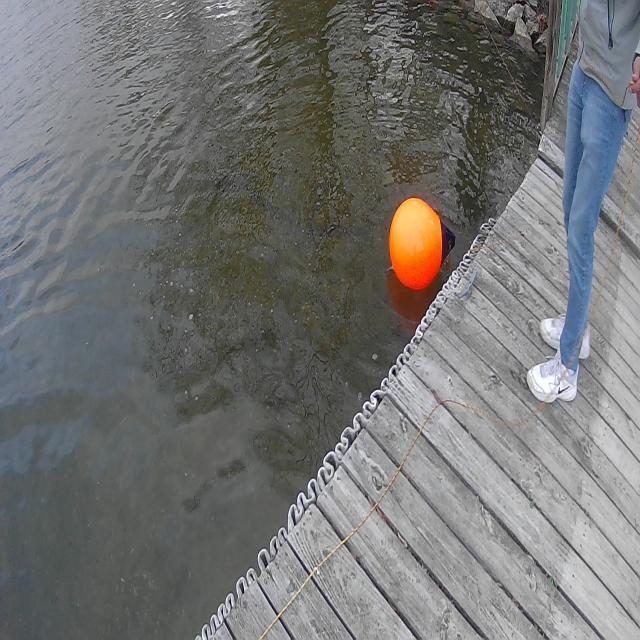Buoy: (384, 187, 456, 295)
